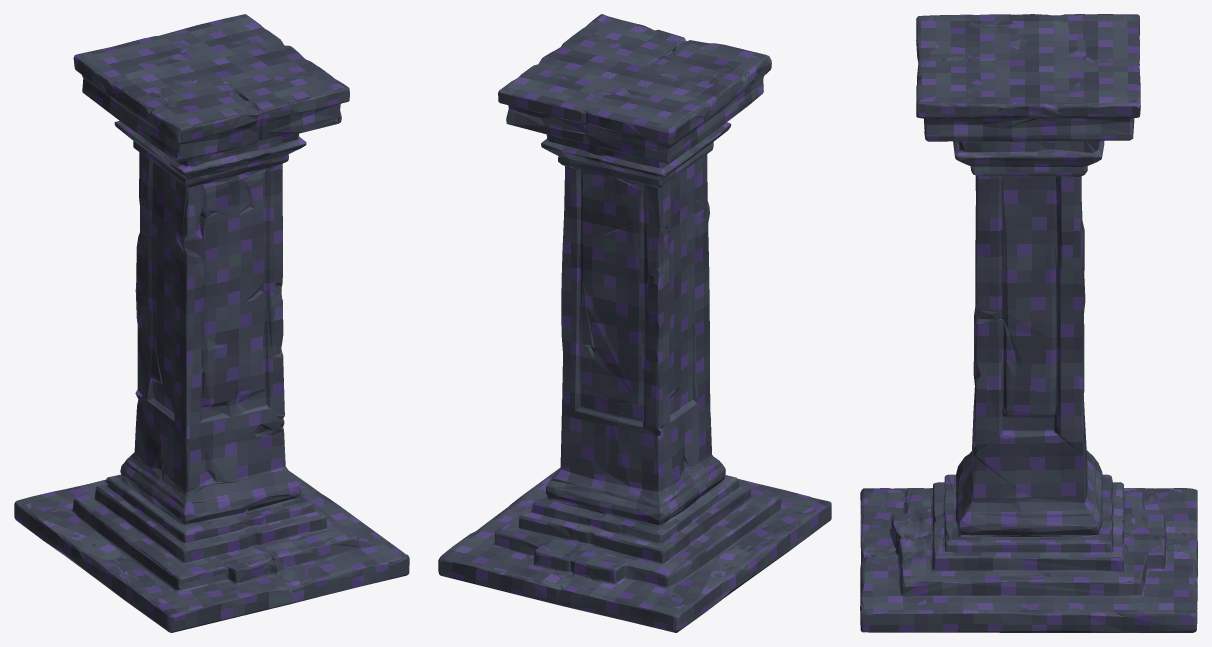
Rendered from solitude-pillar-9.collider.glb.
The picture shows the model from 3 angles, left to right: view 1: azimuth 30°, elevation 25°; view 2: azimuth 150°, elevation 25°; view 3: azimuth 270°, elevation 25°; orthographic projection. The views are drawn at different scales.
Parts seen in each view (by area): view 1: temp_mesh.ply; view 2: temp_mesh.ply; view 3: temp_mesh.ply.
Part boxes in pixels (x1,y1,x2,y2): temp_mesh.ply: [14, 14, 409, 632]; temp_mesh.ply: [438, 14, 831, 632]; temp_mesh.ply: [860, 14, 1197, 632].
Size of the model in its own units: 1.05 by 1.97 by 1.18.
1 material, 1 textured.
